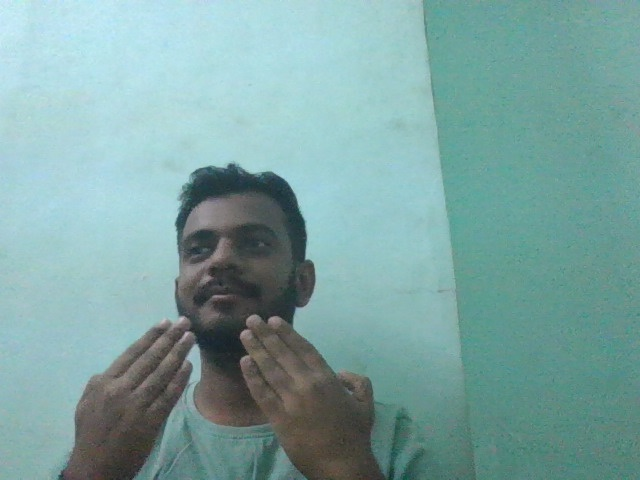thankyou: (68, 309, 376, 457)
